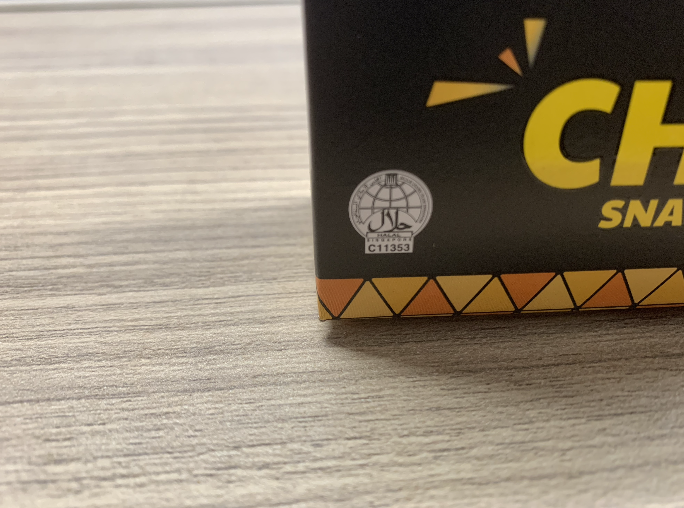halal: (364, 179, 422, 256)
